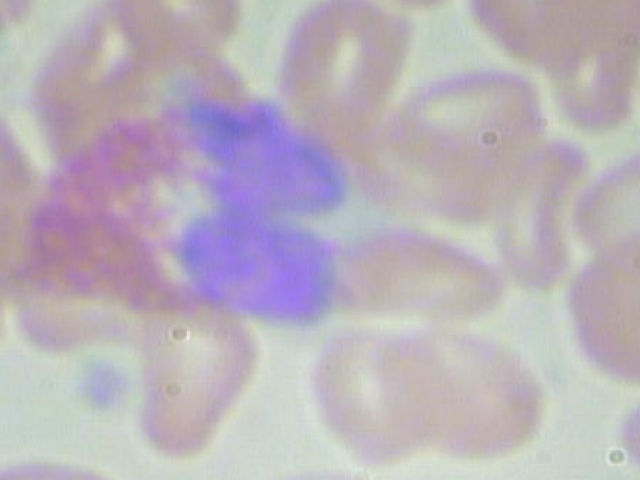Platelets: (71, 357, 131, 416)
RBC: (113, 300, 279, 459), (291, 323, 458, 467), (393, 321, 559, 464), (339, 208, 511, 319), (267, 0, 416, 123), (389, 56, 546, 165), (491, 135, 591, 298), (554, 216, 640, 390), (541, 0, 640, 144), (459, 0, 601, 69), (567, 142, 640, 260), (114, 0, 241, 53), (0, 447, 135, 480), (616, 366, 640, 480), (0, 134, 9, 306), (634, 36, 640, 151), (636, 0, 640, 27)
WBC: (20, 85, 349, 337)
